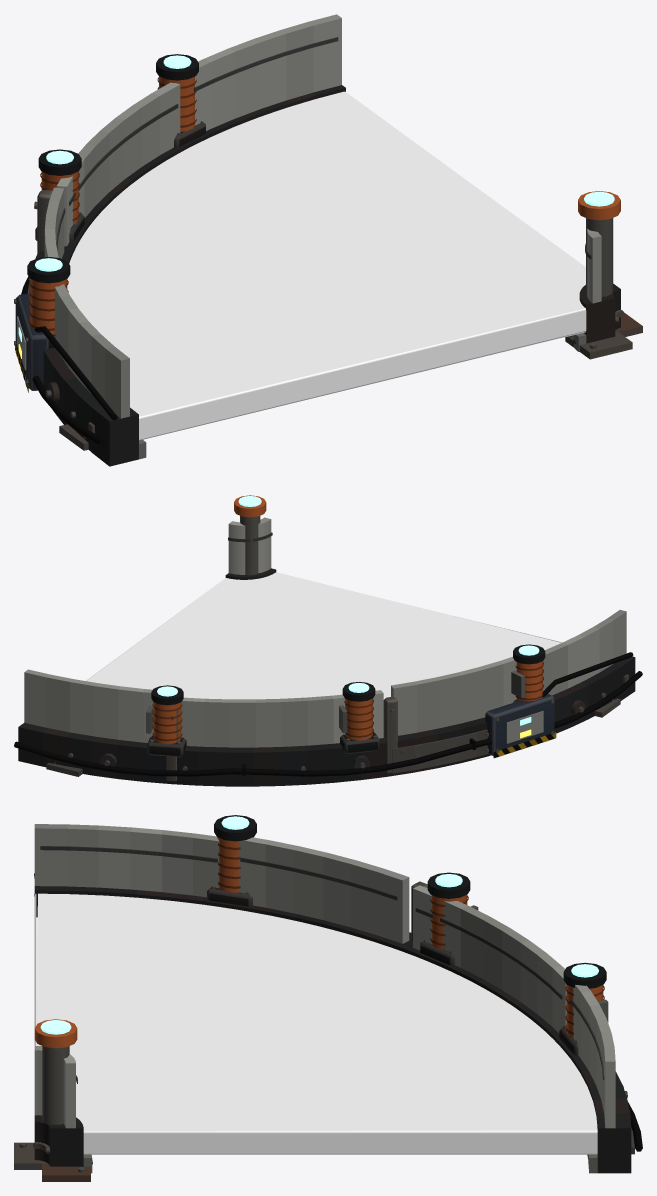
The model's file is conveyor_mag_turn_right.glb.
3 renders of one model, top to bottom at view 1: azimuth 30°, elevation 25°; view 2: azimuth 150°, elevation 25°; view 3: azimuth 270°, elevation 25°, orthographic. The views are drawn at different scales.
Visible parts, largest first — view 1: Belt, Body; view 2: Body, Belt; view 3: Belt, Body.
Part boxes in pixels (x1,y1,x2,y2): Belt: (67,91,586,440); Body: (14,14,642,466); Body: (14,495,642,786); Belt: (86,572,562,699); Belt: (34,893,597,1154); Body: (14,815,642,1181).
Bounding box in the file's own units: 2.06 × 0.497 × 2.06.
